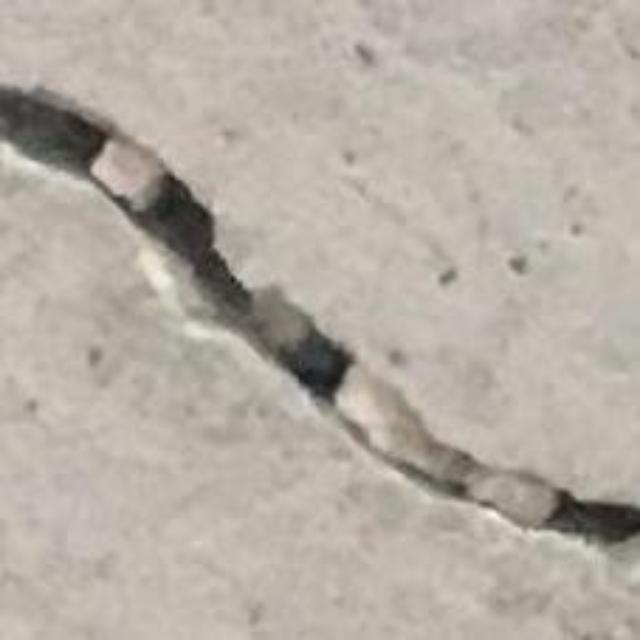crack: (0, 85, 639, 544)
